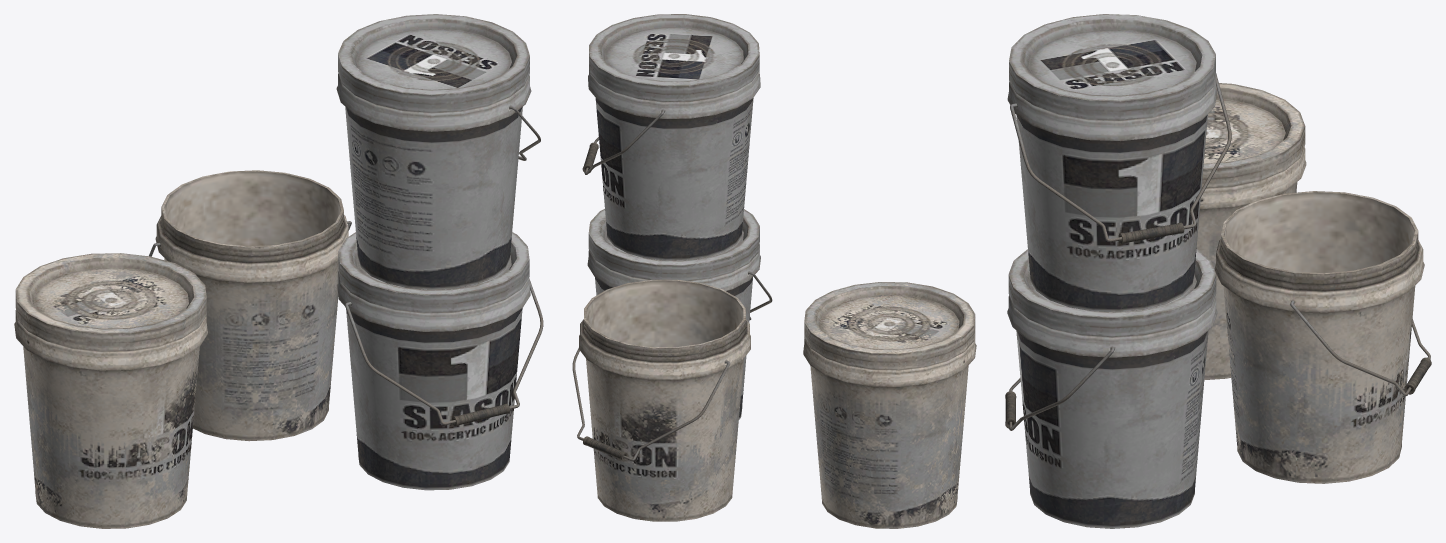
The model's file is paintBucketGroup01.FBX.
3 views of the same model, side by side, from view 1: azimuth 30°, elevation 25°; view 2: azimuth 150°, elevation 25°; view 3: azimuth 270°, elevation 25° (orthographic). The views are drawn at different scales.
Parts seen in each view (by area): view 1: SM_MERGED_PaintBucketGroup001; view 2: SM_MERGED_PaintBucketGroup001; view 3: SM_MERGED_PaintBucketGroup001.
Part boxes in pixels (x1=…): SM_MERGED_PaintBucketGroup001: x1=14, y1=14, x2=543, y2=528; SM_MERGED_PaintBucketGroup001: x1=572, y1=14, x2=976, y2=528; SM_MERGED_PaintBucketGroup001: x1=1005, y1=14, x2=1431, y2=528.
Bounding box in the file's own units: 92.04 × 77.8 × 68.88.
2 materials, 2 textured.
